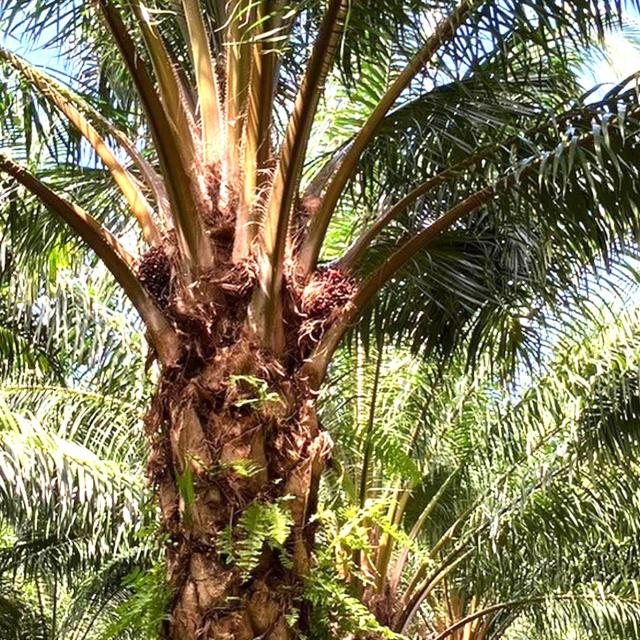ripe: (294, 256, 364, 333)
